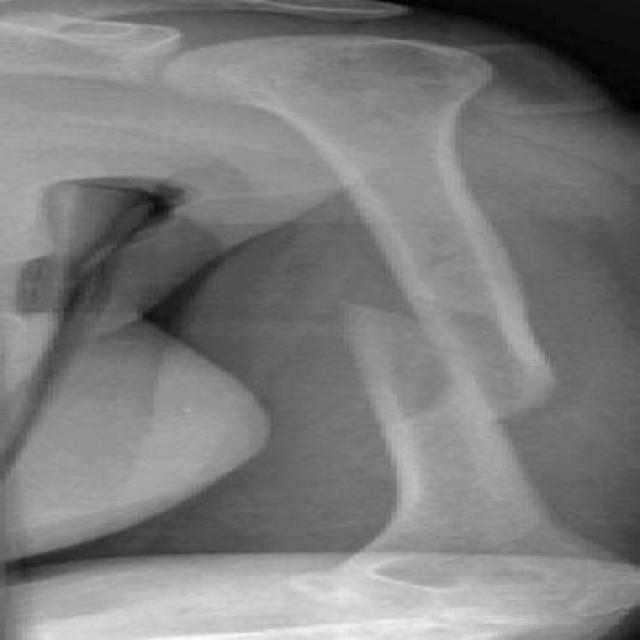Fracture: (312, 287, 568, 417)
